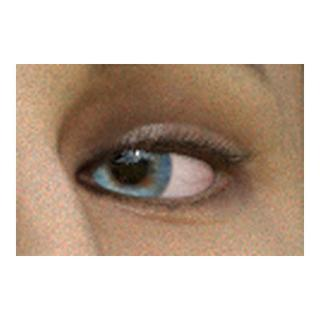pupil: (112, 150, 147, 184)
